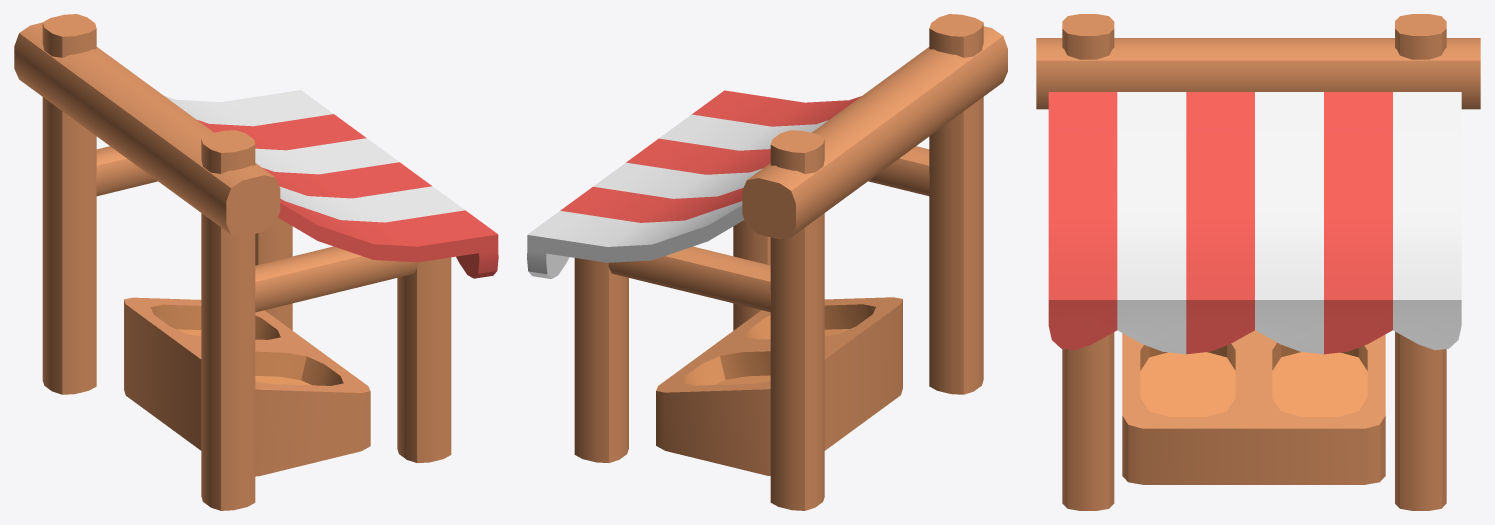
File: Market_B.fbx
The picture shows the model from 3 angles, left to right: view 1: azimuth 30°, elevation 25°; view 2: azimuth 150°, elevation 25°; view 3: azimuth 270°, elevation 25°; orthographic projection. The views are drawn at different scales.
Visible parts, largest first — view 1: Market_B; view 2: Market_B; view 3: Market_B.
Boxes of the visible parts, x1,y1,x2,y2 form: Market_B: [14, 14, 498, 510]; Market_B: [527, 14, 1007, 510]; Market_B: [1036, 14, 1480, 510].
Bounding box in the file's own units: 211 × 259 × 278.
